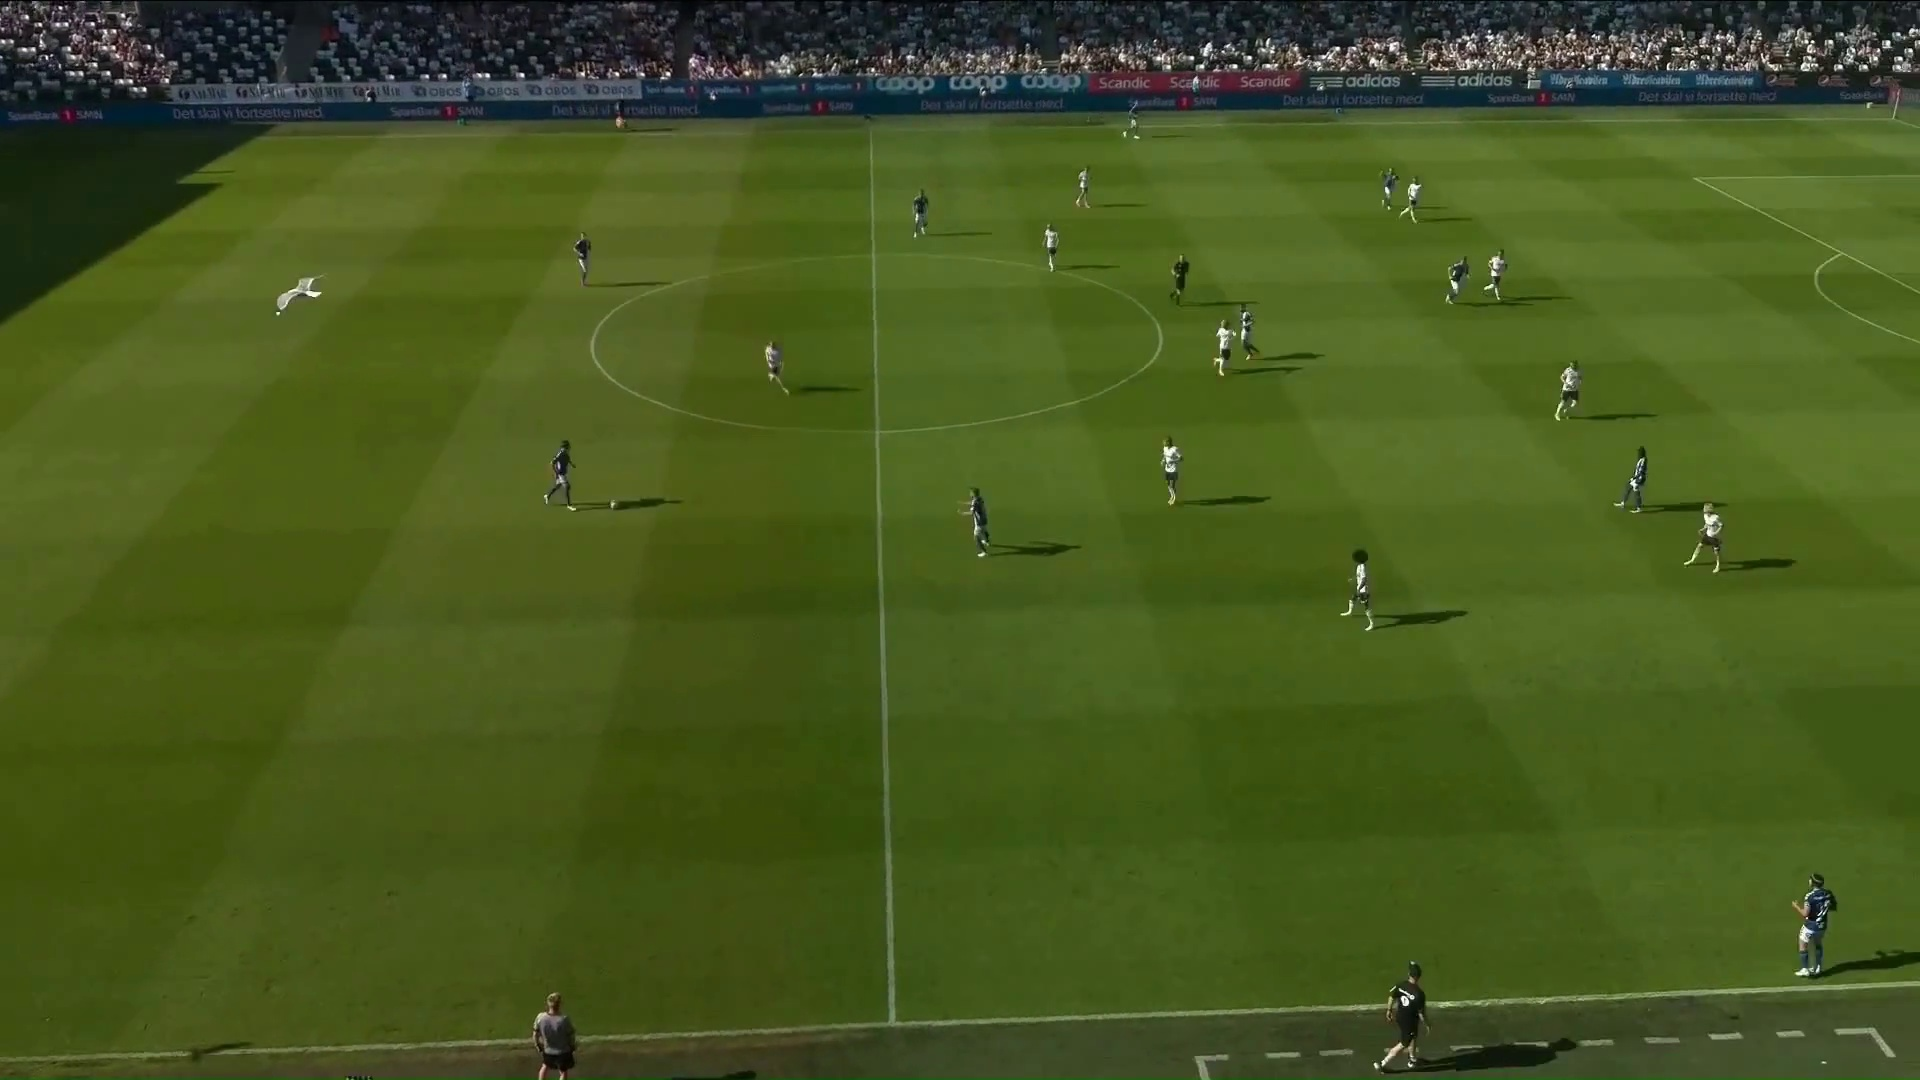ball: (609, 498, 620, 509)
player: (1792, 872, 1838, 979), (1683, 502, 1724, 573), (1340, 548, 1374, 631), (543, 439, 578, 510), (1614, 445, 1648, 512), (963, 486, 991, 558), (1554, 359, 1583, 421), (1161, 436, 1184, 506), (764, 339, 790, 395), (1445, 255, 1471, 305), (1214, 319, 1236, 377), (1397, 175, 1423, 224), (1239, 303, 1260, 360), (1485, 248, 1508, 300), (1170, 253, 1190, 306), (573, 232, 592, 286), (912, 188, 930, 238), (1042, 222, 1059, 272), (1123, 93, 1141, 140), (1380, 167, 1398, 210), (1075, 165, 1092, 208), (613, 97, 628, 130)
